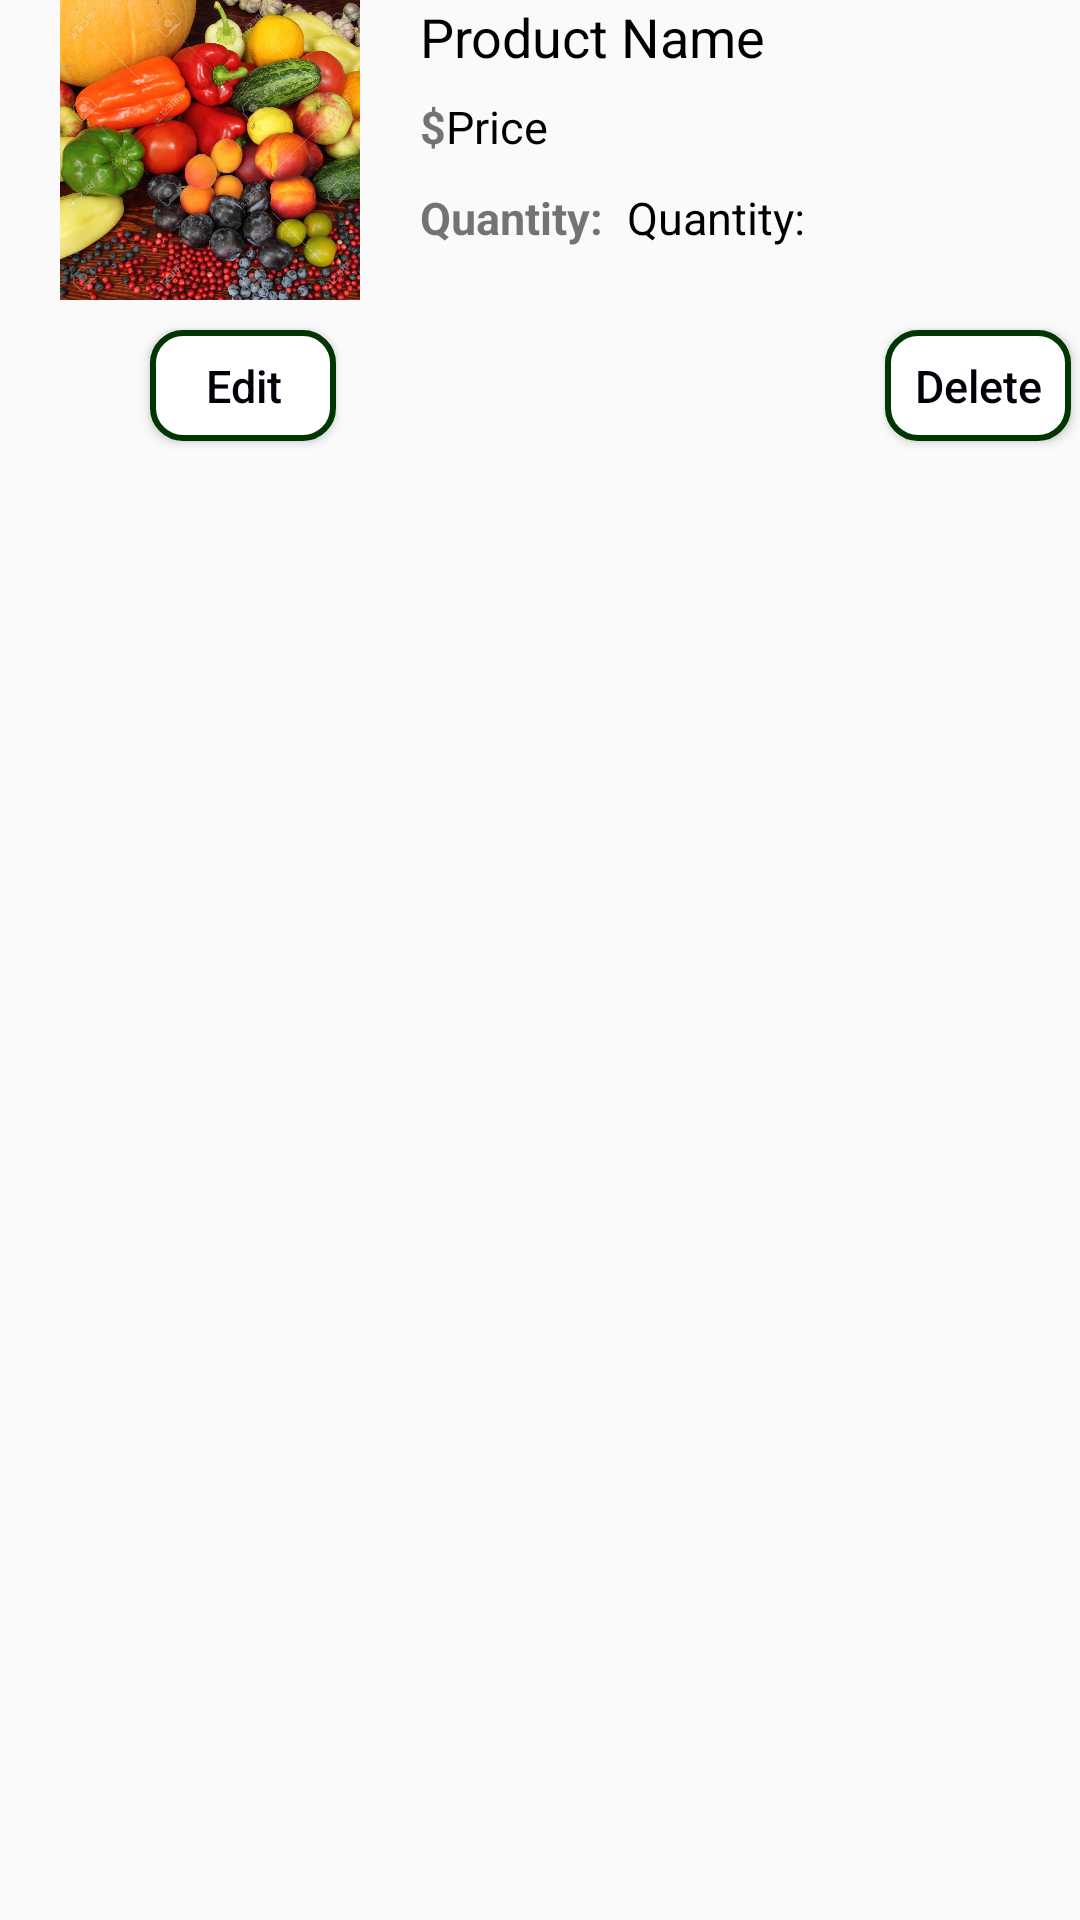

Icon bounding boxes for this 1080px x 1920px phone screenshot, format (x1, y1, x2, y2):
produce: (60, 0, 360, 300)
